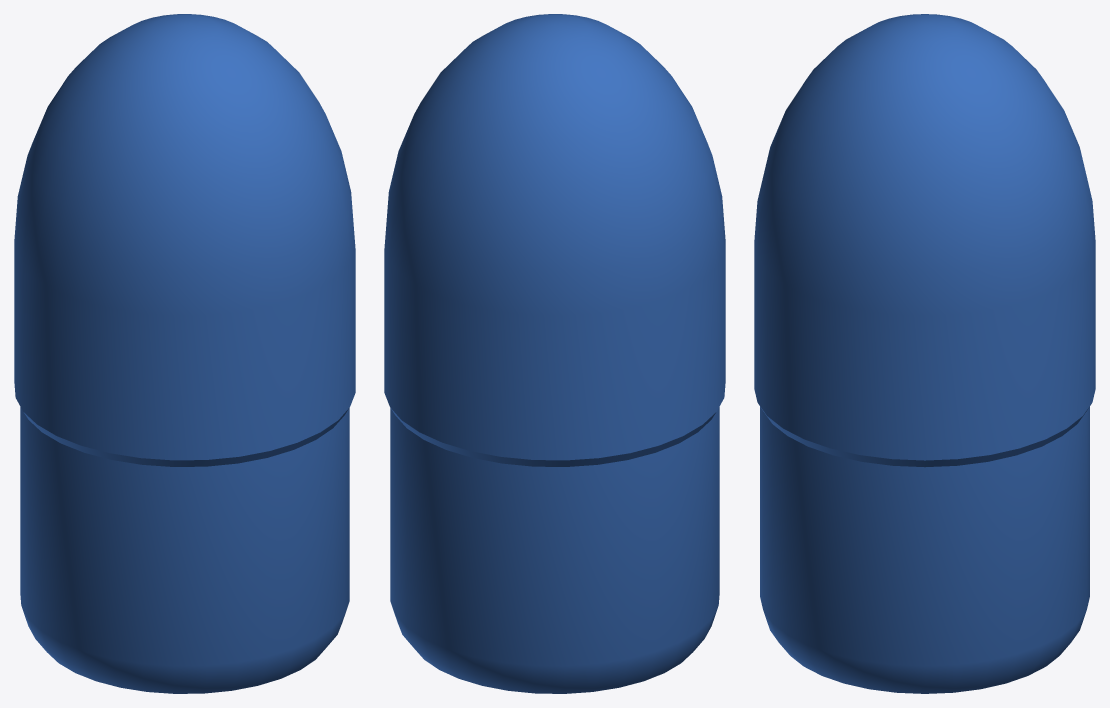
Rendered from 子弹13柯尔特.FBX.
3 views of the same model, side by side, from view 1: azimuth 30°, elevation 25°; view 2: azimuth 150°, elevation 25°; view 3: azimuth 270°, elevation 25° (orthographic).
Visible parts, largest first — view 1: Sphere001; view 2: Sphere001; view 3: Sphere001.
Part boxes in pixels (box(x1,y1,x2,y2)): Sphere001: box(14, 14, 355, 693); Sphere001: box(384, 14, 725, 693); Sphere001: box(754, 14, 1095, 693).
Bounding box in the file's own units: 38.47 × 75.47 × 38.47.
